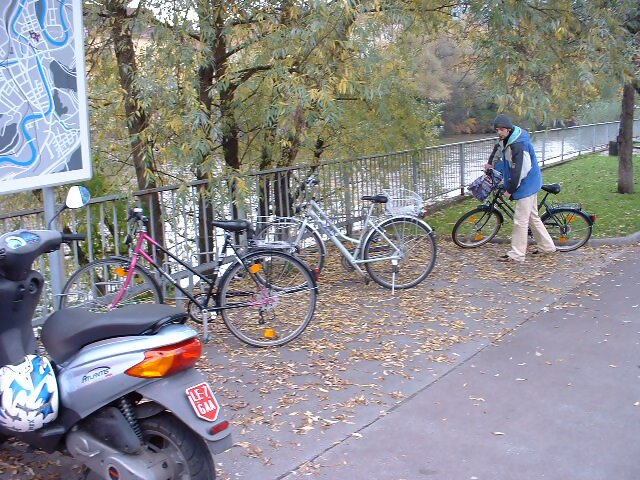person: (477, 111, 561, 262)
